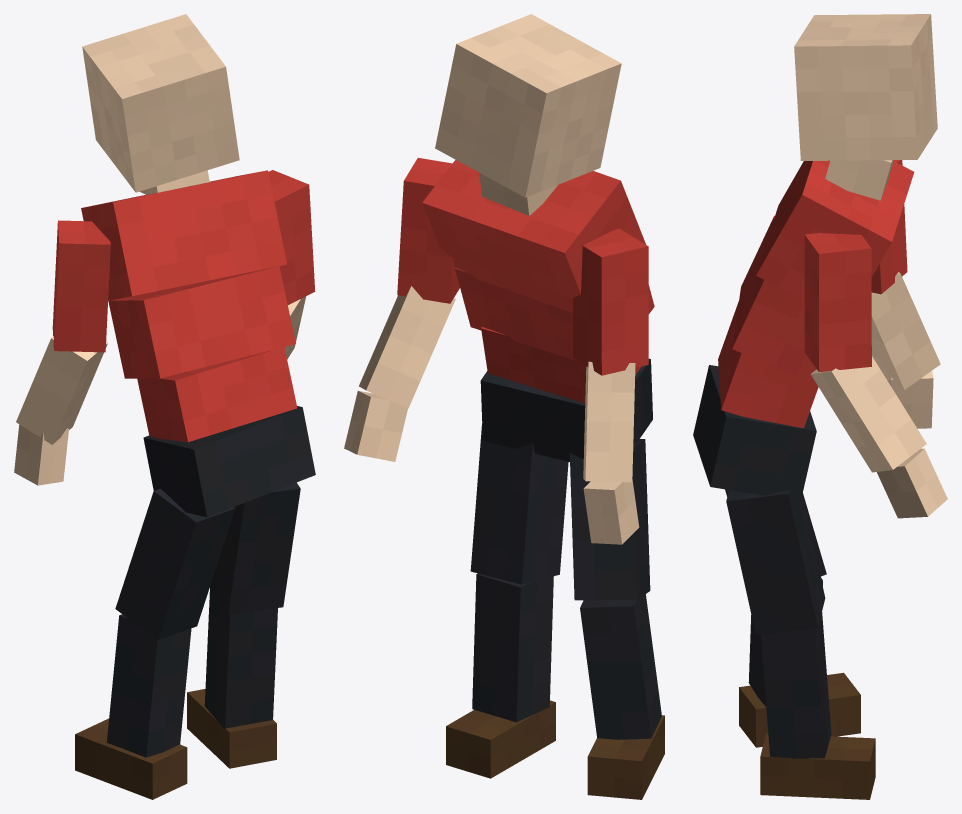
Rendered from npc_zombie.glb.
3 renders of one model, left to right at view 1: azimuth 30°, elevation 25°; view 2: azimuth 150°, elevation 25°; view 3: azimuth 270°, elevation 25°, orthographic. The views are drawn at different scales.
Visible parts, largest first — view 1: head, chestU, chestL, pelvis, thighR, waist, shinR, thighL, shinL, uarmR, footR, farmR (+4 smaller); view 2: head, chestU, thighL, shinL, uarmR, shinR, pelvis, thighR, farmL, uarmL, farmR, chestL (+6 smaller); view 3: head, thighL, chestU, pelvis, uarmL, shinL, farmL, chestL, footL, waist, farmR, footR (+5 smaller).
Boxes of the visible parts, x1=… form: head: x1=82, y1=14, x2=239, y2=192; chestU: x1=81, y1=170, x2=286, y2=300; chestL: x1=108, y1=266, x2=295, y2=378; pelvis: x1=143, y1=406, x2=315, y2=517; thighR: x1=115, y1=488, x2=235, y2=640; waist: x1=137, y1=347, x2=297, y2=442; shinR: x1=107, y1=614, x2=191, y2=757; thighL: x1=210, y1=482, x2=300, y2=614; shinL: x1=204, y1=588, x2=277, y2=729; uarmR: x1=52, y1=220, x2=110, y2=352; footR: x1=75, y1=718, x2=187, y2=799; farmR: x1=16, y1=336, x2=107, y2=444; head: x1=435, y1=14, x2=621, y2=197; chestU: x1=422, y1=159, x2=645, y2=312; thighL: x1=470, y1=423, x2=568, y2=584; shinL: x1=472, y1=573, x2=553, y2=722; uarmR: x1=573, y1=228, x2=648, y2=375; shinR: x1=580, y1=594, x2=661, y2=739; pelvis: x1=480, y1=358, x2=652, y2=461; thighR: x1=569, y1=439, x2=650, y2=600; farmL: x1=359, y1=286, x2=455, y2=408; uarmL: x1=397, y1=157, x2=459, y2=303; farmR: x1=583, y1=361, x2=635, y2=482; chestL: x1=455, y1=268, x2=654, y2=360; head: x1=794, y1=14, x2=937, y2=160; thighL: x1=726, y1=490, x2=825, y2=635; chestU: x1=756, y1=160, x2=914, y2=300; pelvis: x1=693, y1=365, x2=816, y2=501; uarmL: x1=804, y1=233, x2=871, y2=371; shinL: x1=761, y1=612, x2=831, y2=758; farmL: x1=810, y1=356, x2=926, y2=472; chestL: x1=732, y1=215, x2=816, y2=384; footL: x1=760, y1=733, x2=875, y2=799; waist: x1=718, y1=301, x2=818, y2=428; farmR: x1=871, y1=272, x2=940, y2=389; footR: x1=739, y1=672, x2=860, y2=747.
Size of the model in its own units: 0.7722 by 1.92 by 0.6009.
